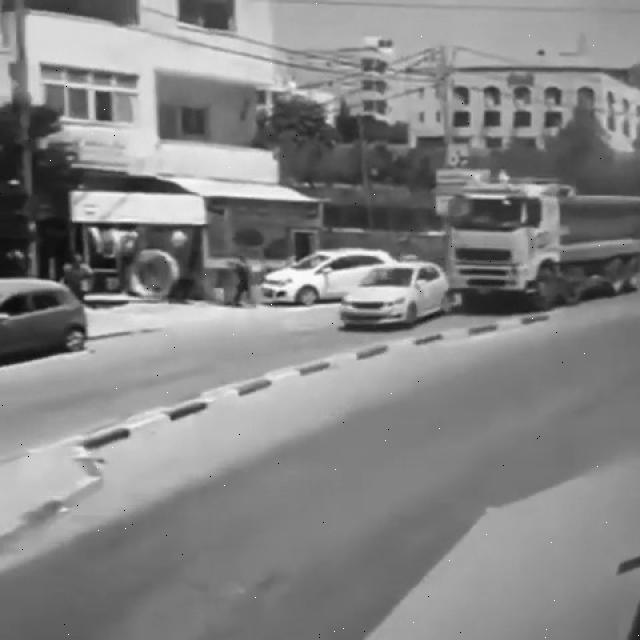accident: (340, 188, 640, 332)
